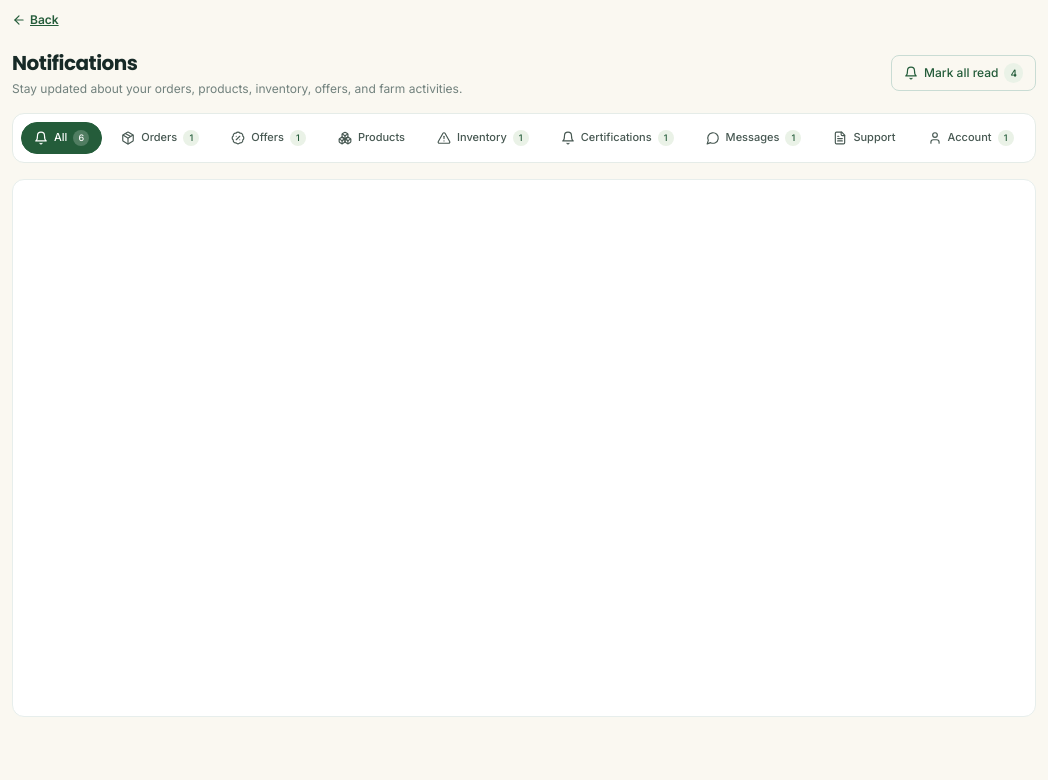
Test: Farmer Notification Centre › Offers displays offer notifications
This screenshot has width=1048, height=780.
Click the button "Offers 1".
click(269, 138)  # box [218,122,319,154]
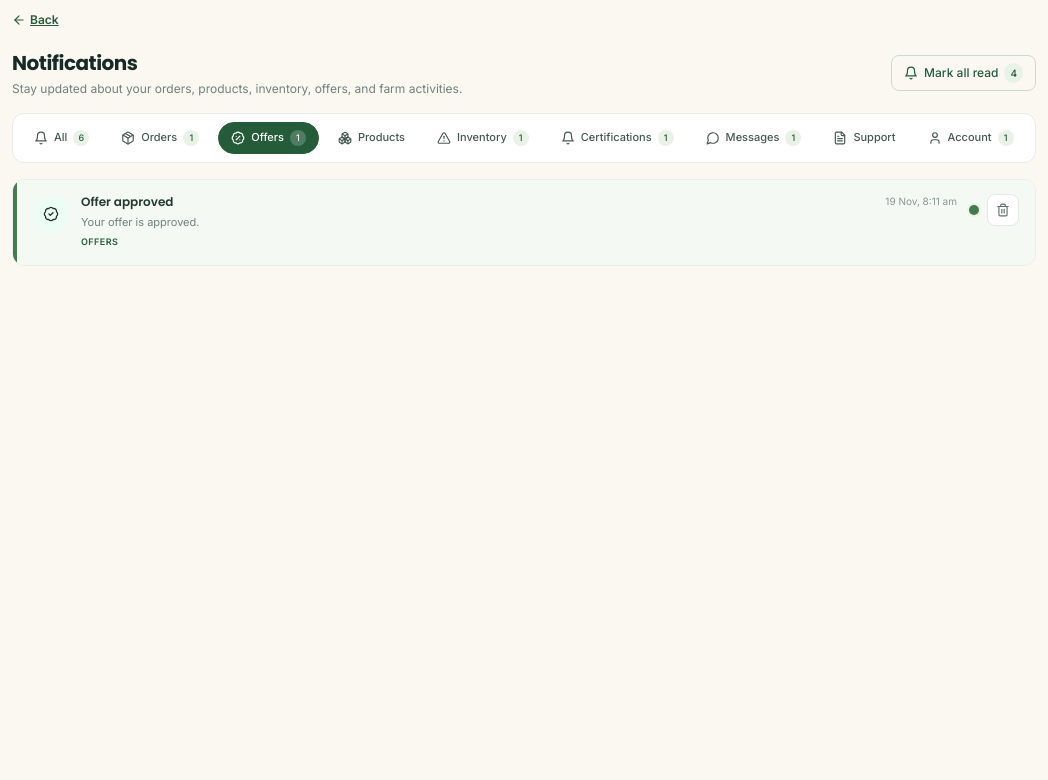
Check: the button "Offer approved" is shown, box [81,194,174,210]
